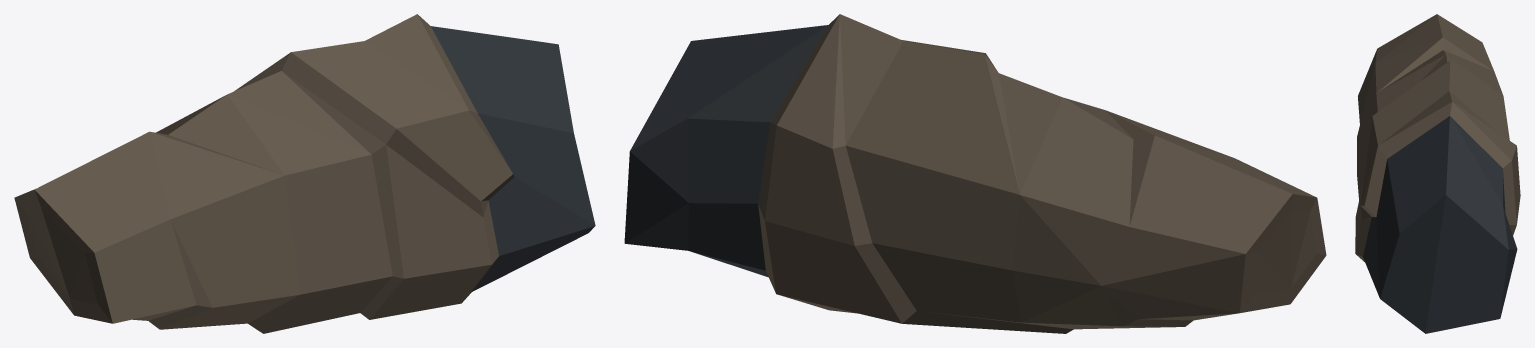
The model's file is Chr_ArmLowerRight_Female_03_Static.fbx.
3 views of the same model, side by side, from view 1: azimuth 30°, elevation 25°; view 2: azimuth 150°, elevation 25°; view 3: azimuth 270°, elevation 25° (orthographic). The views are drawn at different scales.
Visible parts, largest first — view 1: Chr_ArmLowerRight_Female_03_Static; view 2: Chr_ArmLowerRight_Female_03_Static; view 3: Chr_ArmLowerRight_Female_03_Static.
Boxes of the visible parts, box(x1,y1,x2,y2) form: Chr_ArmLowerRight_Female_03_Static: box(14, 14, 595, 333); Chr_ArmLowerRight_Female_03_Static: box(624, 14, 1326, 333); Chr_ArmLowerRight_Female_03_Static: box(1355, 14, 1520, 333).
Bounding box in the file's own units: 0.2944 × 0.1443 × 0.1043.
